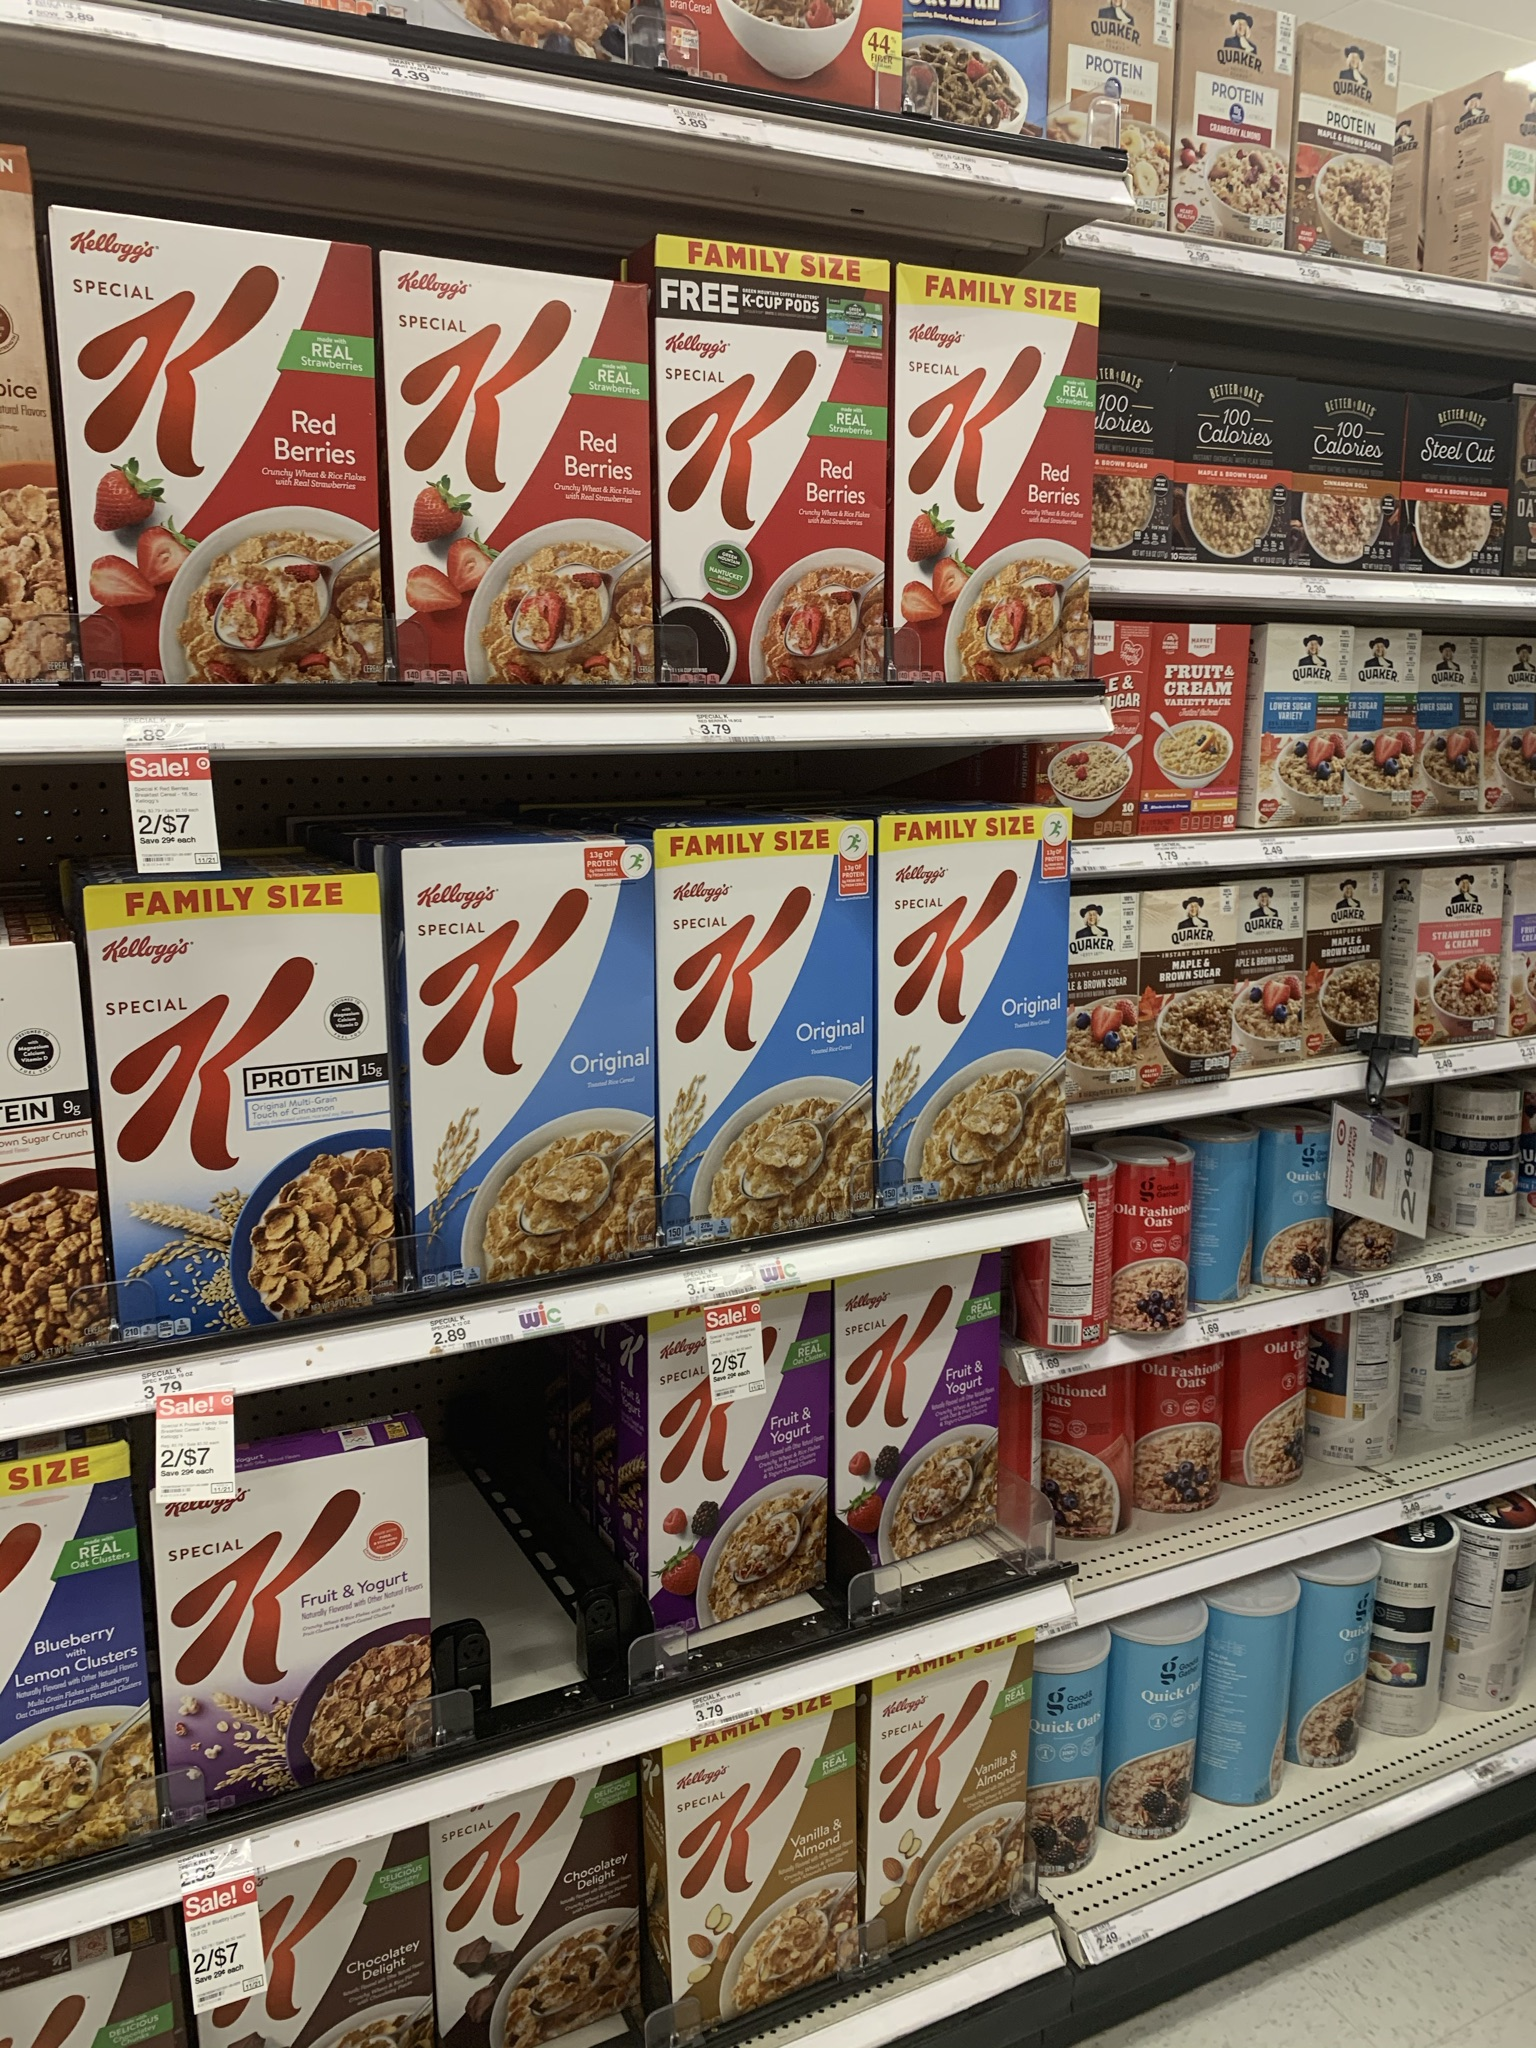cereal: (48, 205, 394, 692), (89, 892, 410, 1314), (386, 253, 662, 698), (397, 851, 650, 1272), (657, 242, 887, 692), (652, 835, 874, 1234), (892, 261, 1099, 681), (152, 1487, 423, 1792), (879, 818, 1071, 1201), (644, 1313, 842, 1653), (829, 1279, 1033, 1585), (658, 1727, 862, 2027), (870, 1679, 1062, 1972), (428, 1809, 650, 2048)
